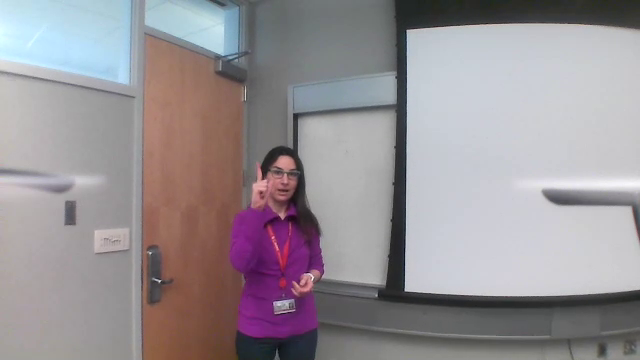up: (247, 160, 269, 207)
